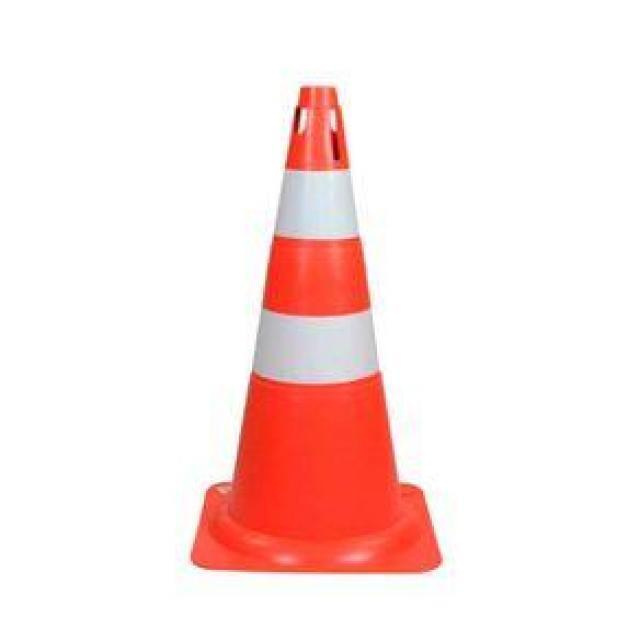traffic cone: (186, 83, 444, 574)
